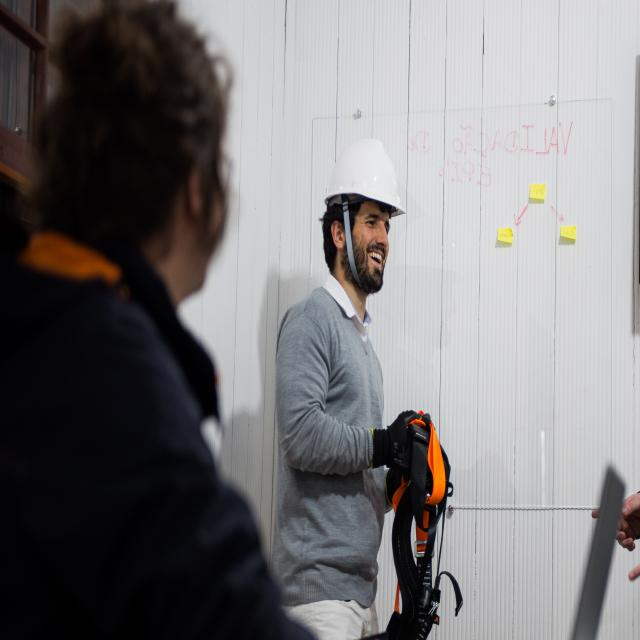capacete: (323, 136, 407, 219)
